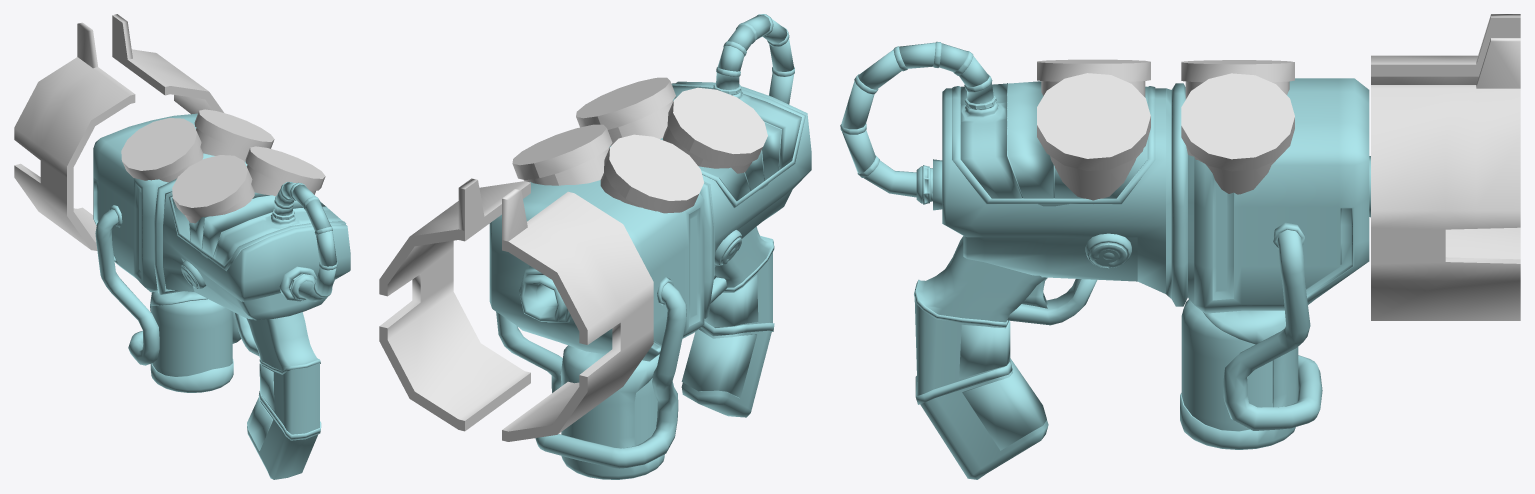
Rendered from arma 1 laura.fbx.
3 renders of one model, left to right at view 1: azimuth 30°, elevation 25°; view 2: azimuth 150°, elevation 25°; view 3: azimuth 270°, elevation 25°, orthographic. The views are drawn at different scales.
Parts seen in each view (by area): view 1: Primary_Weapon, Primary_Weapon_Front_Piece_02, Primary_Weapon_Container_04, Primary_Weapon_Container_03, Primary_Weapon_Front_Piece_01, Primary_Weapon_Container_01, Primary_Weapon_Container_02; view 2: Primary_Weapon, Primary_Weapon_Front_Piece_02, Primary_Weapon_Front_Piece_01, Primary_Weapon_Container_04, Primary_Weapon_Container_03, Primary_Weapon_Container_01, Primary_Weapon_Container_02; view 3: Primary_Weapon, Primary_Weapon_Front_Piece_01, Primary_Weapon_Container_02, Primary_Weapon_Container_01, Primary_Weapon_Front_Piece_02, Primary_Weapon_Container_04, Primary_Weapon_Container_03.
Part boxes in pixels (x1,y1,x2,y2): Primary_Weapon: (93,113,350,479); Primary_Weapon_Front_Piece_02: (14,22,135,250); Primary_Weapon_Container_04: (172,155,254,223); Primary_Weapon_Container_03: (121,118,203,182); Primary_Weapon_Front_Piece_01: (112,14,223,114); Primary_Weapon_Container_01: (194,109,274,161); Primary_Weapon_Container_02: (245,146,325,196); Primary_Weapon: (489,14,811,479); Primary_Weapon_Front_Piece_02: (502,189,653,441); Primary_Weapon_Front_Piece_01: (379,178,530,431); Primary_Weapon_Container_04: (663,87,767,173); Primary_Weapon_Container_03: (600,134,703,213); Primary_Weapon_Container_01: (512,124,612,185); Primary_Weapon_Container_02: (576,77,675,145); Primary_Weapon: (840,41,1370,479); Primary_Weapon_Front_Piece_01: (1371,38,1520,320); Primary_Weapon_Container_02: (1037,73,1150,200); Primary_Weapon_Container_01: (1181,73,1294,194); Primary_Weapon_Front_Piece_02: (1371,14,1520,259); Primary_Weapon_Container_04: (1037,59,1150,97); Primary_Weapon_Container_03: (1181,60,1294,98).
Size of the model in its own units: 49.52 by 90 by 124.
